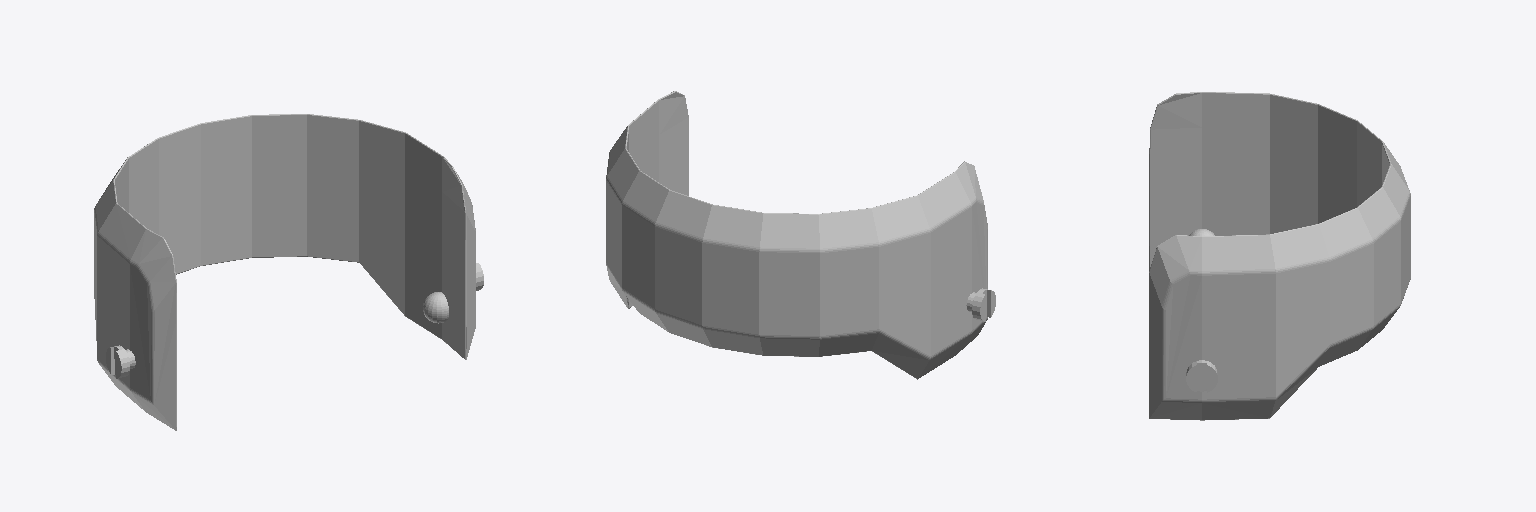
File: IronGiantJaw.obj
The picture shows the model from 3 angles: view 1: azimuth 30°, elevation 25°; view 2: azimuth 150°, elevation 25°; view 3: azimuth 270°, elevation 25°; orthographic projection.
Parts seen in each view (by area): view 1: pCylinder8; view 2: pCylinder8; view 3: pCylinder8.
Boxes of the visible parts, x1,y1,x2,y2 form: pCylinder8: [94, 114, 483, 430]; pCylinder8: [606, 91, 995, 379]; pCylinder8: [1149, 92, 1410, 420].
Size of the model in its own units: 6.39 by 3.1 by 3.99.